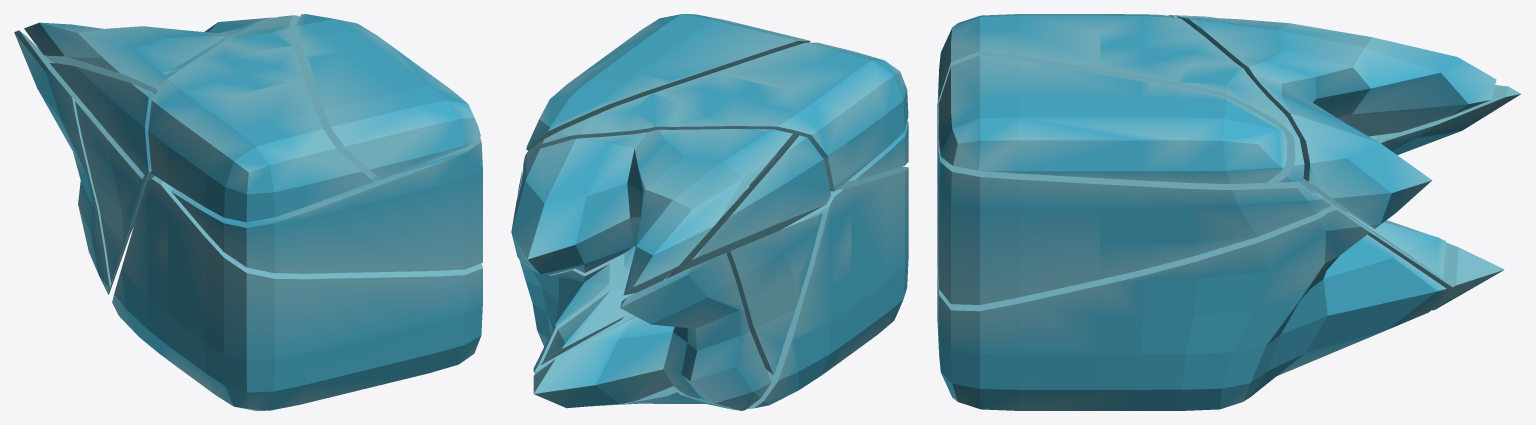
File: iceWall2.fbx
3 renders of one model, left to right at view 1: azimuth 30°, elevation 25°; view 2: azimuth 150°, elevation 25°; view 3: azimuth 270°, elevation 25°, orthographic. The views are drawn at different scales.
Visible parts, largest first — view 1: wall_60HP; view 2: wall_60HP; view 3: wall_60HP.
Boxes of the visible parts, bbox=[...] form: wall_60HP: bbox=[14, 14, 482, 410]; wall_60HP: bbox=[511, 14, 908, 410]; wall_60HP: bbox=[937, 14, 1520, 410].
Bounding box in the file's own units: 100 × 100 × 179.
